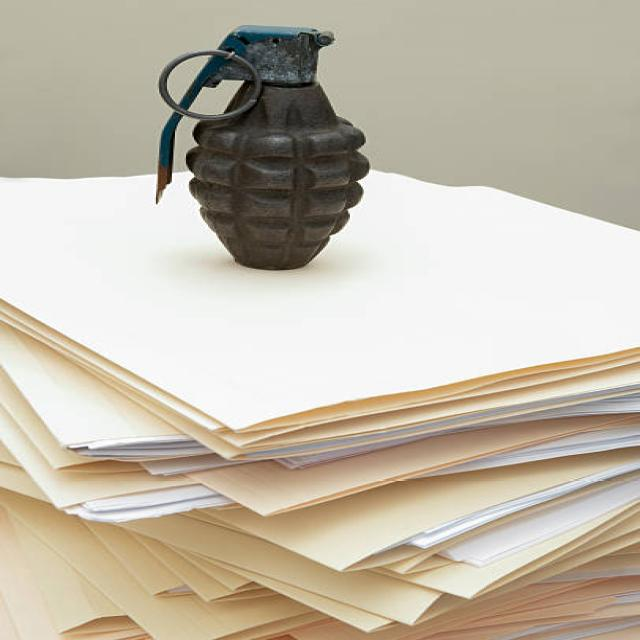grenade: (141, 21, 378, 284)
